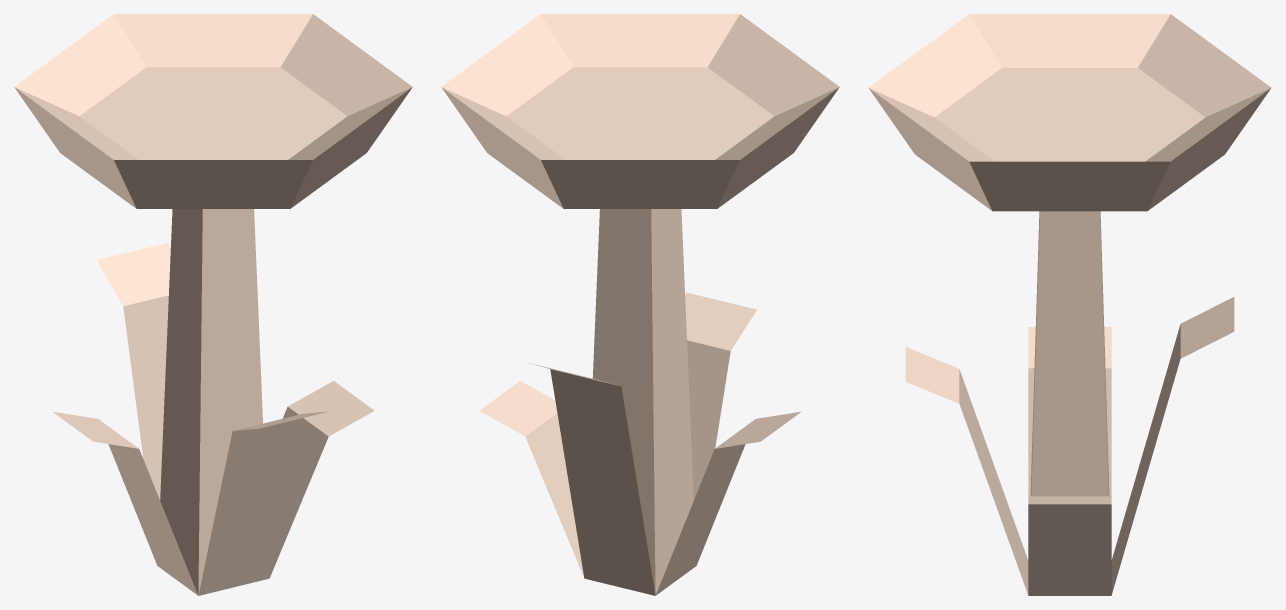
Rendered from flower_beige3.fbx.
3 views of the same model, side by side, from view 1: azimuth 30°, elevation 25°; view 2: azimuth 150°, elevation 25°; view 3: azimuth 270°, elevation 25° (orthographic).
Parts seen in each view (by area): view 1: flower_beige3; view 2: flower_beige3; view 3: flower_beige3.
Part boxes in pixels (x1,y1,x2,y2): flower_beige3: [14, 14, 412, 595]; flower_beige3: [441, 14, 839, 595]; flower_beige3: [868, 14, 1271, 595].
Size of the model in its own units: 39.31 by 60.95 by 45.39.
